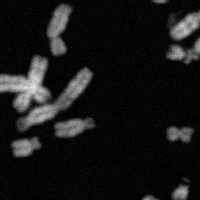chromosome: (16, 66, 92, 132), (14, 54, 48, 113), (0, 75, 52, 105), (47, 4, 72, 56), (171, 3, 200, 40), (54, 117, 94, 138), (11, 137, 42, 157), (166, 125, 193, 143), (172, 177, 190, 200), (168, 45, 191, 62), (190, 25, 200, 58), (116, 193, 160, 200)
